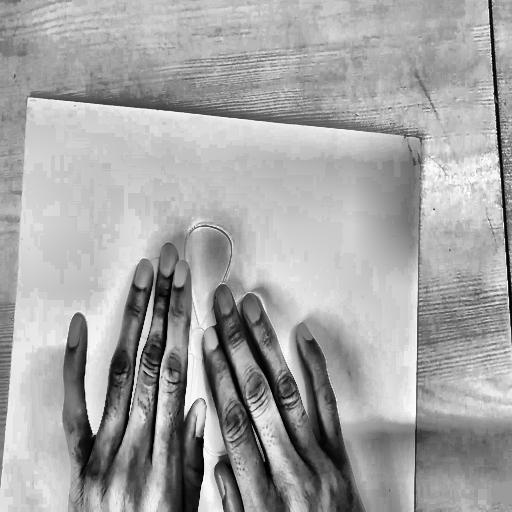flower: (109, 209, 295, 512)
top_left: (24, 90, 33, 107)
top_right: (416, 131, 425, 149)
